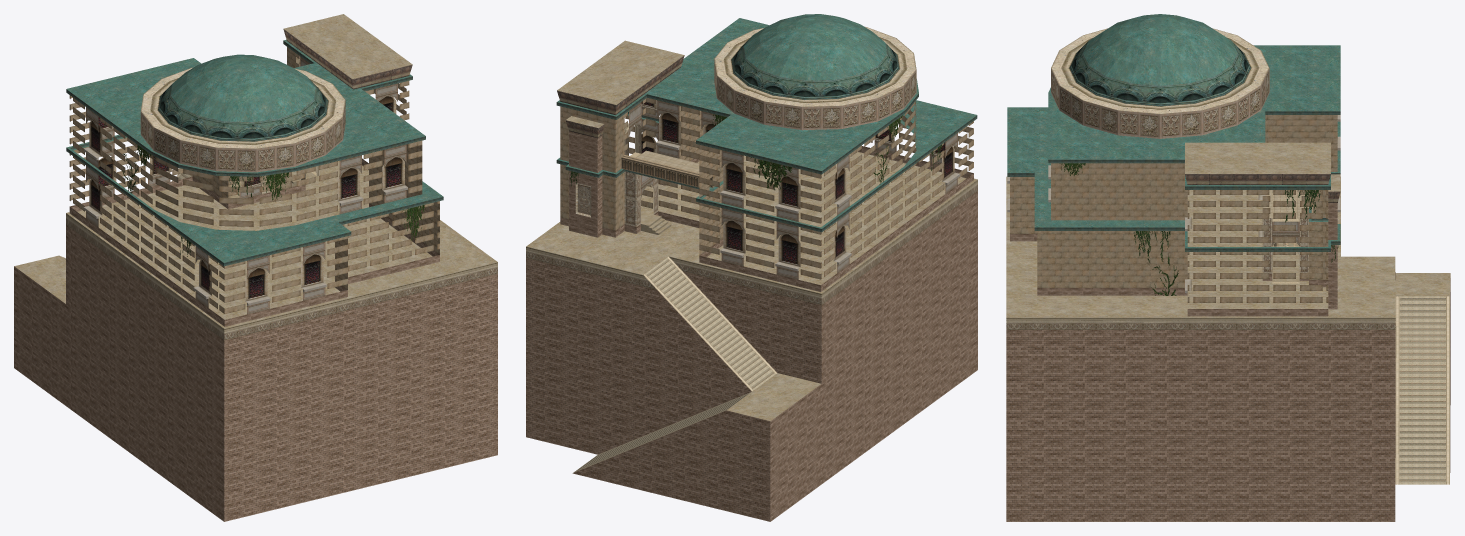
File: ply_nboo_house_m_s01_fp1_r0_mesh_l0.fbx
3 renders of one model, left to right at view 1: azimuth 30°, elevation 25°; view 2: azimuth 150°, elevation 25°; view 3: azimuth 270°, elevation 25°, orthographic. The views are drawn at different scales.
Parts seen in each view (by area): view 1: mesh_node; view 2: mesh_node; view 3: mesh_node.
Boxes of the visible parts, x1,y1,x2,y2 form: mesh_node: [14, 14, 497, 521]; mesh_node: [526, 14, 977, 521]; mesh_node: [1006, 14, 1450, 521].
Bounding box in the file's own units: 24.45 × 32.65 × 32.53.
